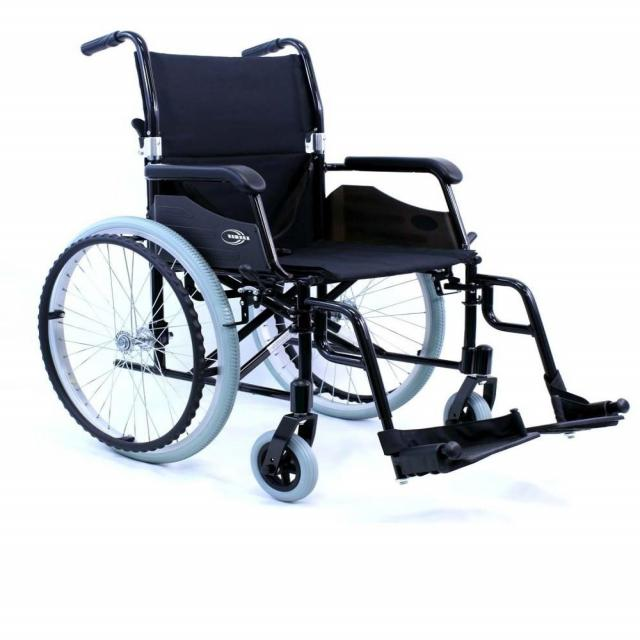wheelchair: (30, 24, 640, 514)
